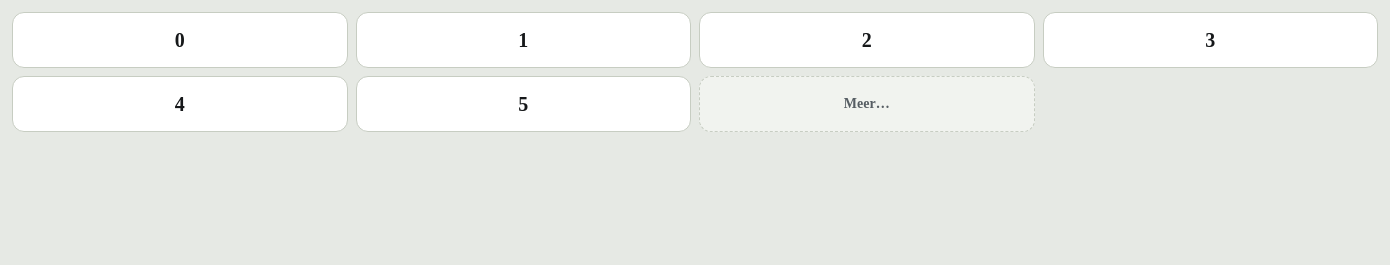
Test: meer invoeren › is weer te sluiten
Click the button with aria-label "Meer invoeren". click: (867, 104)
box: [699,76,1034,132]
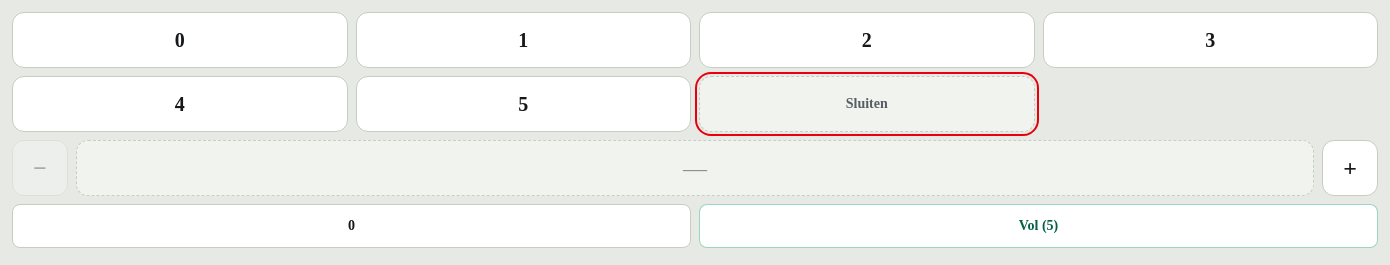
Click the button with aria-label "Handmatige invoer sluiten". click: (867, 104)
box: [699,76,1034,132]
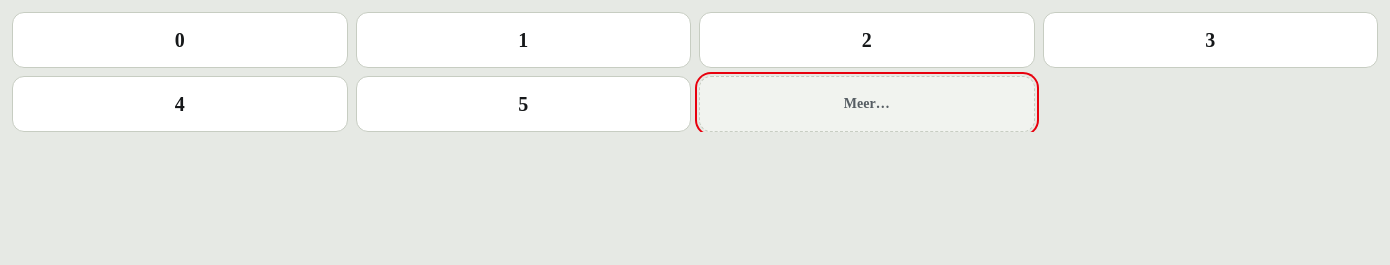
Expected: the field is gone
